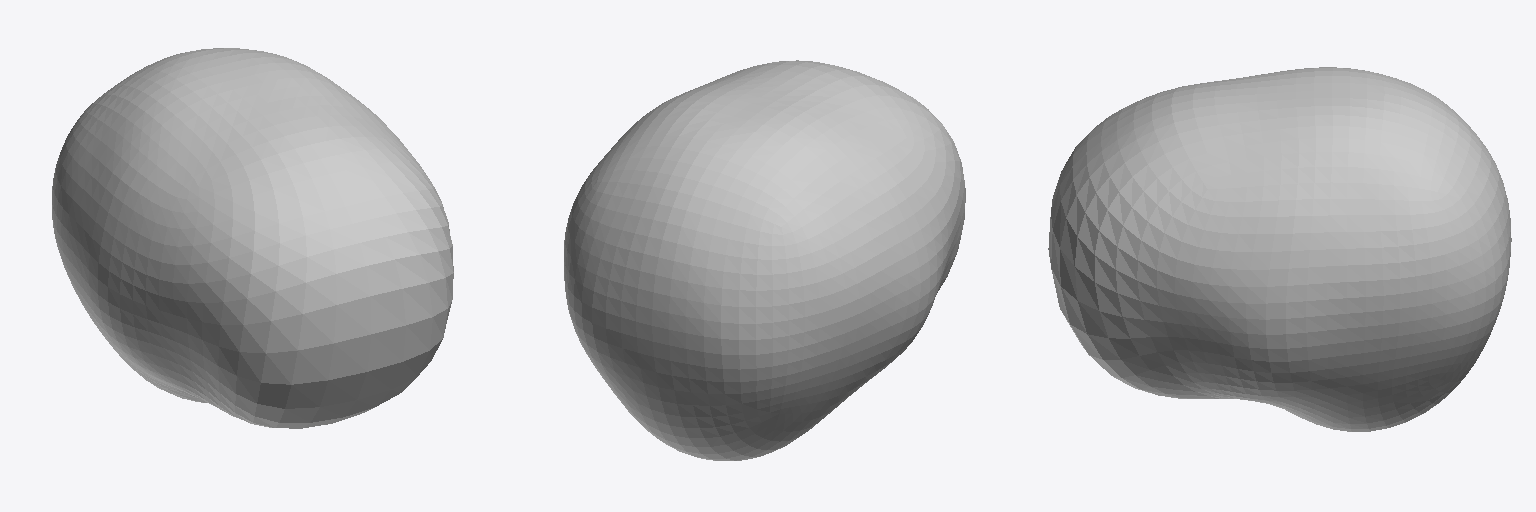
The model's file is patate.obj.
The picture shows the model from 3 angles: view 1: azimuth 30°, elevation 25°; view 2: azimuth 150°, elevation 25°; view 3: azimuth 270°, elevation 25°; orthographic projection.
Visible parts, largest first — view 1: Cube; view 2: Cube; view 3: Cube.
Boxes of the visible parts, x1=… form: Cube: x1=52, y1=48, x2=453, y2=428; Cube: x1=564, y1=60, x2=965, y2=460; Cube: x1=1048, y1=67, x2=1511, y2=431.
Bounding box in the file's own units: 1.82 × 1.85 × 2.34.